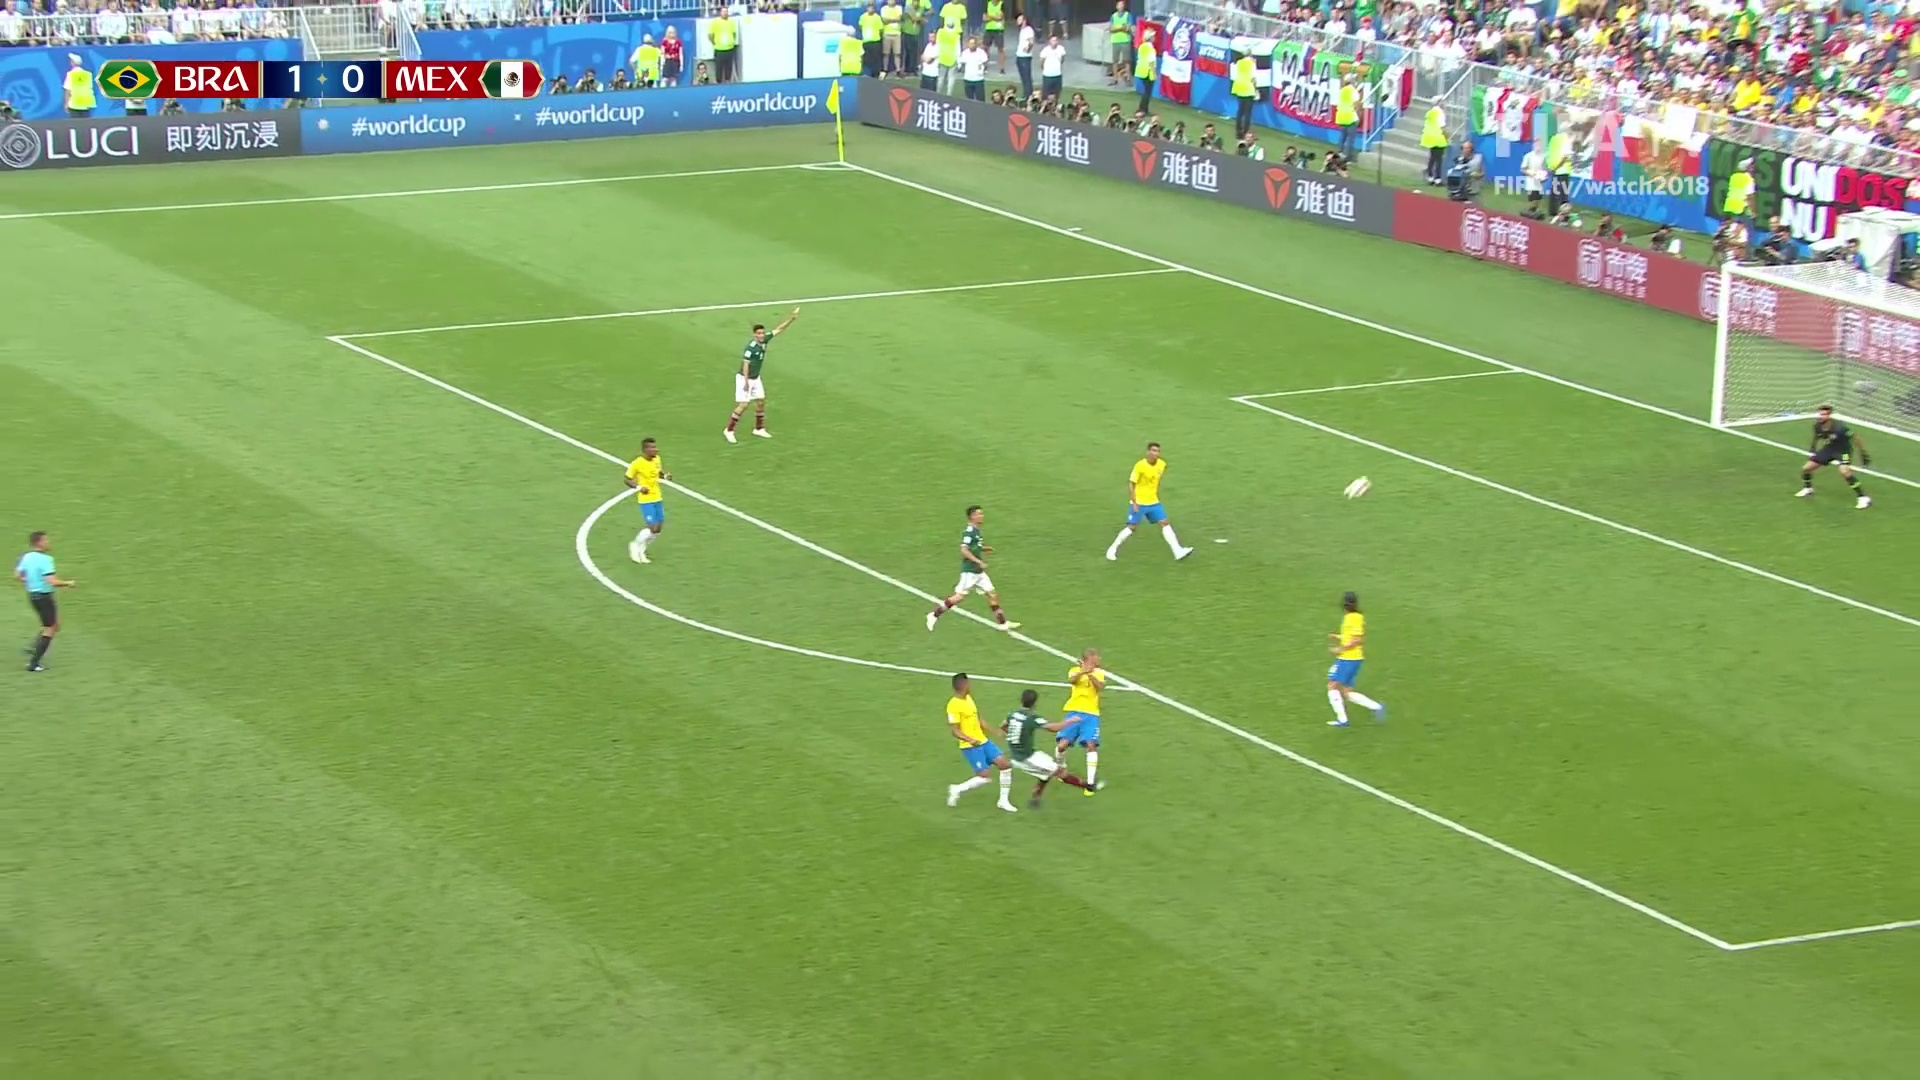ball: (1346, 474, 1368, 499)
person: (998, 684, 1094, 811), (936, 676, 1013, 822), (940, 507, 1021, 634), (1109, 440, 1184, 555), (1798, 403, 1876, 509), (1059, 645, 1115, 788), (730, 309, 790, 438), (1323, 593, 1376, 726), (628, 436, 669, 568)
